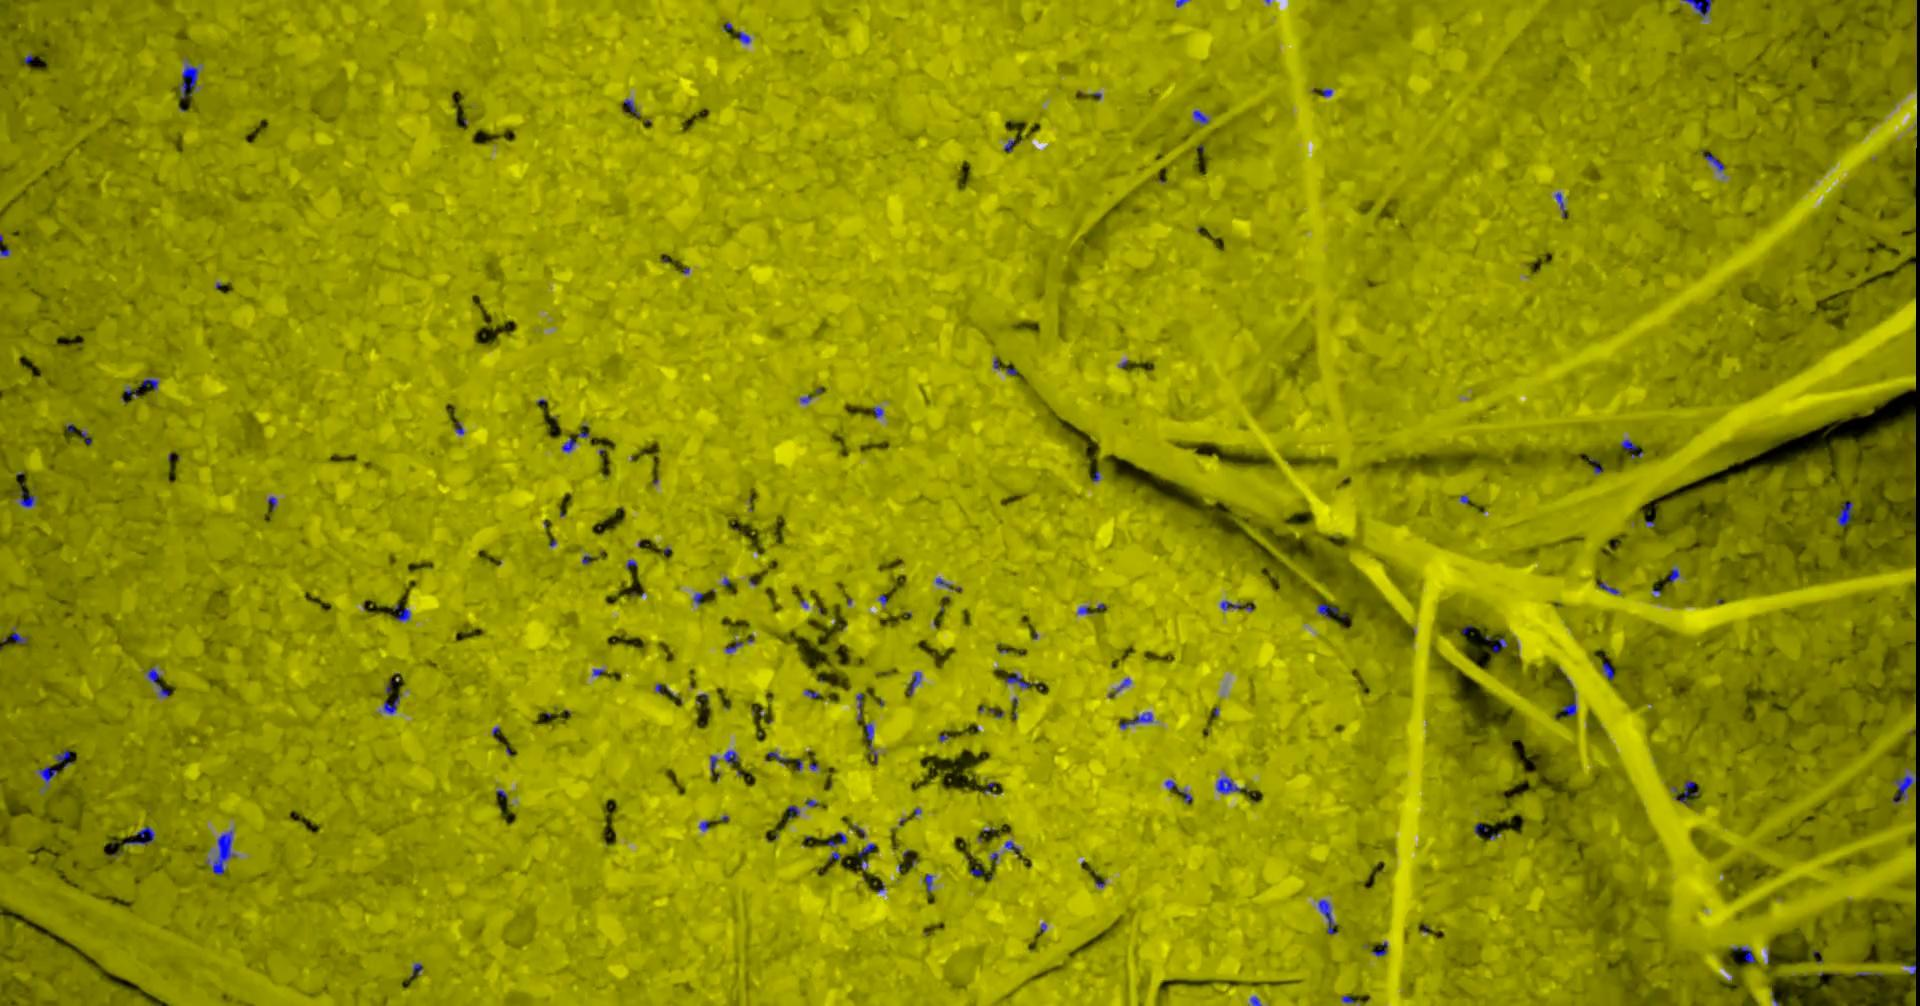ant: (211, 829, 234, 874), (1891, 774, 1919, 803), (178, 58, 198, 97), (1317, 899, 1336, 934), (146, 667, 168, 696), (1672, 780, 1697, 805), (863, 723, 877, 762), (1119, 711, 1152, 728), (123, 826, 154, 843), (1681, 0, 1710, 17), (37, 765, 57, 786), (1619, 439, 1641, 459), (1836, 500, 1853, 525), (1704, 152, 1724, 171), (1004, 672, 1030, 687), (13, 490, 36, 507), (1731, 946, 1754, 963), (1215, 777, 1239, 793), (1317, 603, 1337, 619), (908, 671, 921, 695), (55, 749, 71, 766), (827, 832, 846, 846), (392, 605, 409, 620), (383, 696, 399, 713), (1371, 941, 1387, 956), (1556, 192, 1564, 217), (561, 437, 575, 452), (11, 629, 27, 643), (1492, 636, 1506, 652), (1561, 701, 1575, 716), (723, 749, 738, 763), (1601, 662, 1613, 680), (1192, 111, 1208, 123), (138, 379, 157, 389), (1220, 600, 1241, 608), (924, 874, 933, 892)
